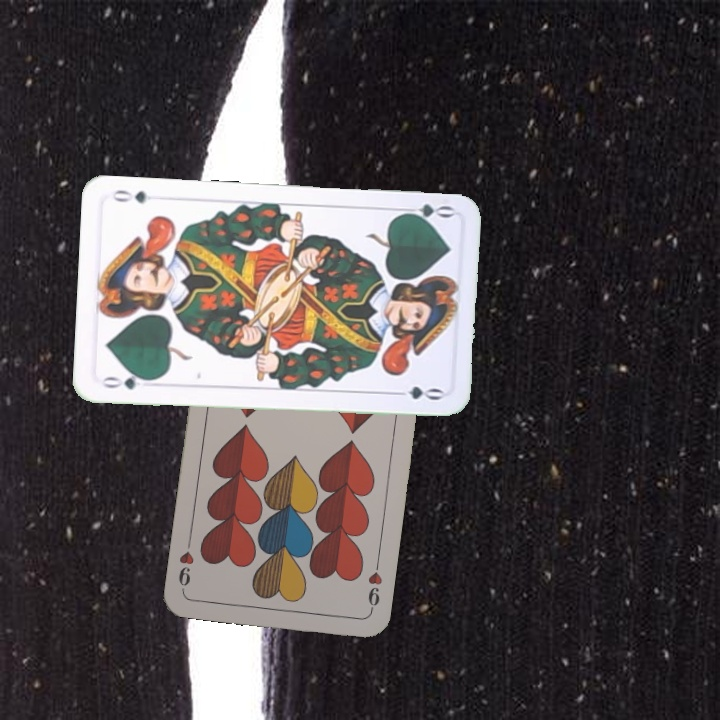GO: (396, 200, 455, 225), (97, 369, 156, 392)
H9: (364, 557, 385, 616)
